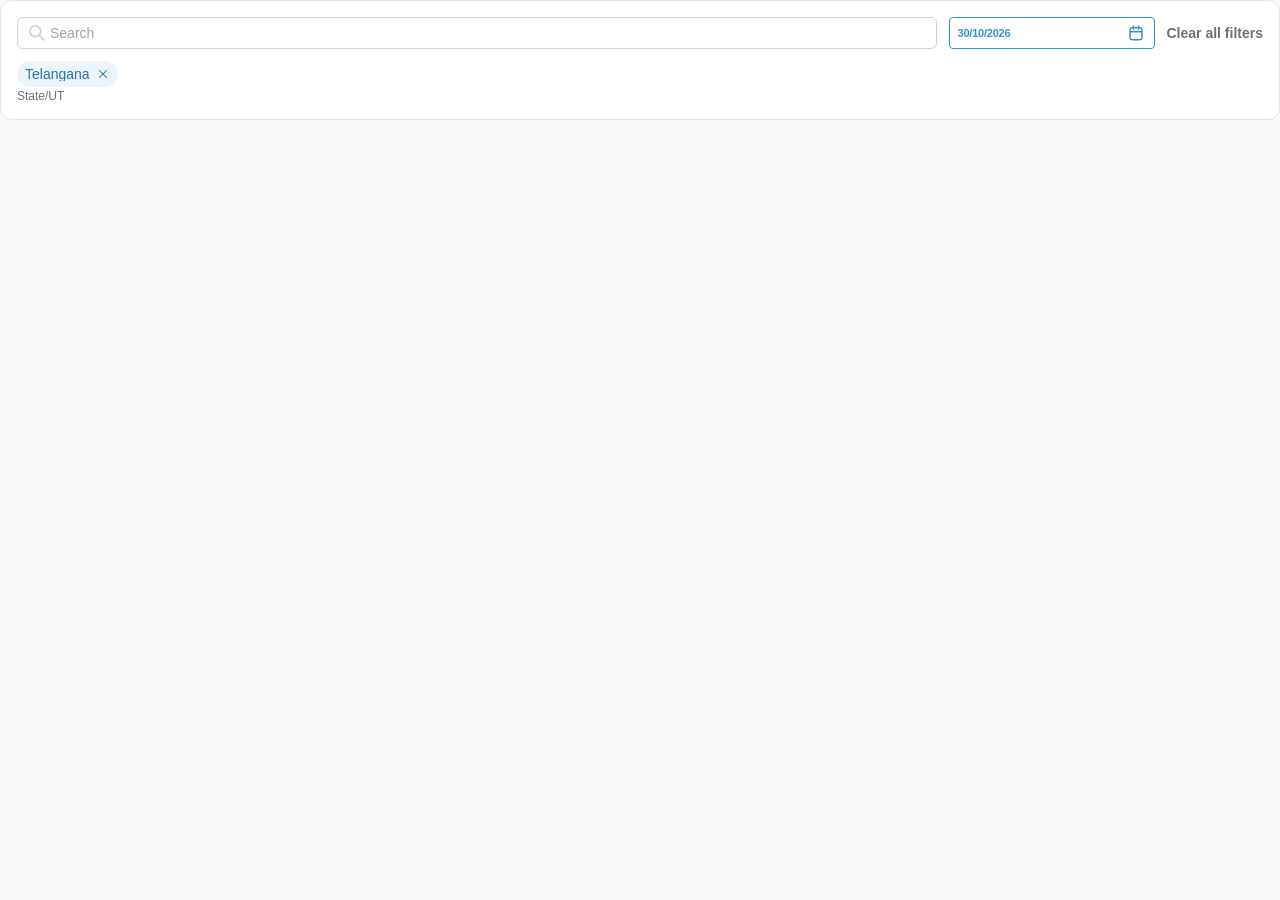
DashboardFilters › keeps breadcrumb dropdown open when an intermediate region is selected
Focus the field at (477, 33), box left=17, top=17, right=936, bottom=49
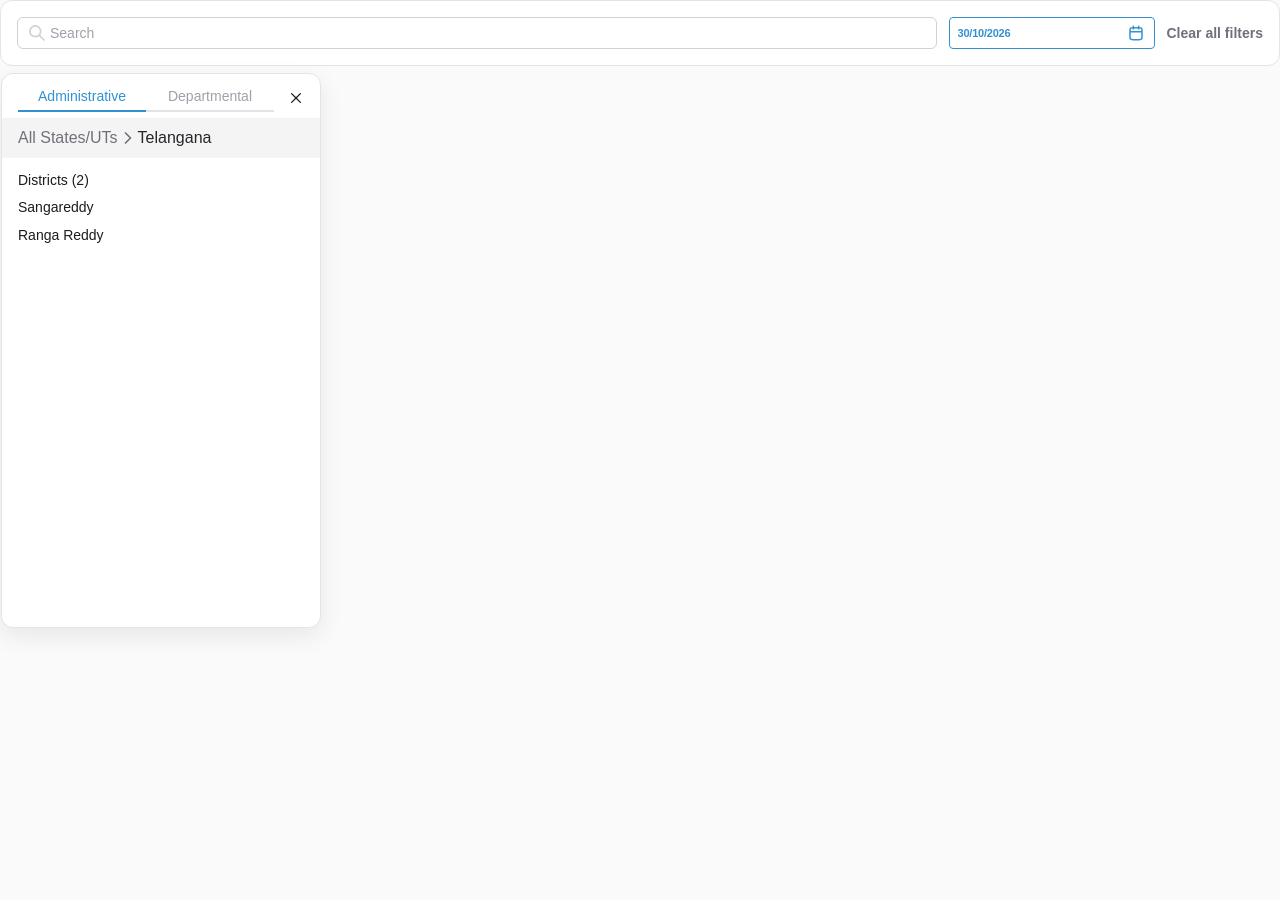
Expected: the text "Districts (2)" is shown, left=18, top=172, right=89, bottom=188
Click the button "Sangareddy" at (118, 207), box left=18, top=199, right=218, bottom=216
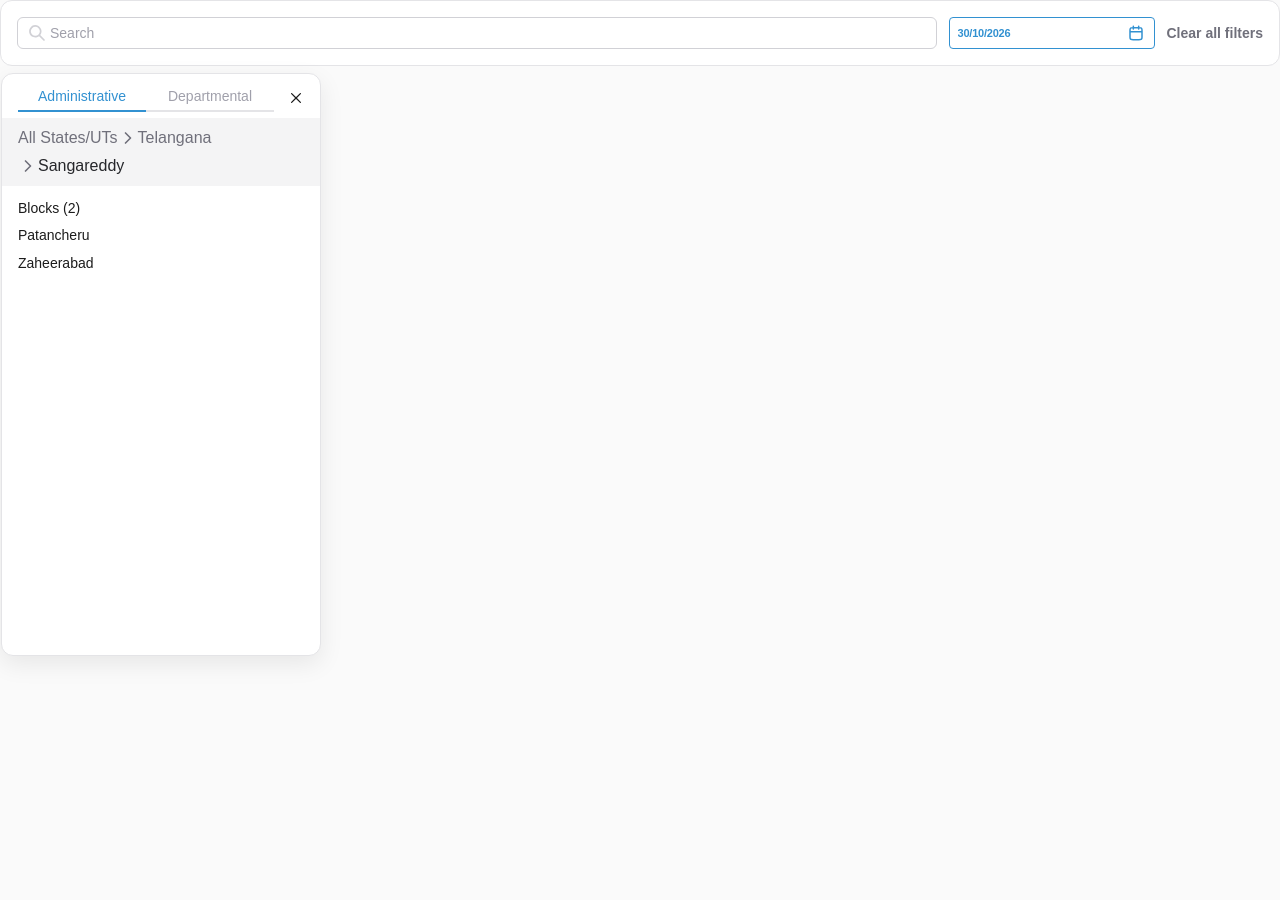
Expected: the text "Blocks (2)" is shown, left=18, top=200, right=80, bottom=216
Expected: the text "Patancheru" is shown, left=18, top=227, right=90, bottom=243
Expected: the text "Zaheerabad" is shown, left=18, top=255, right=94, bottom=271
